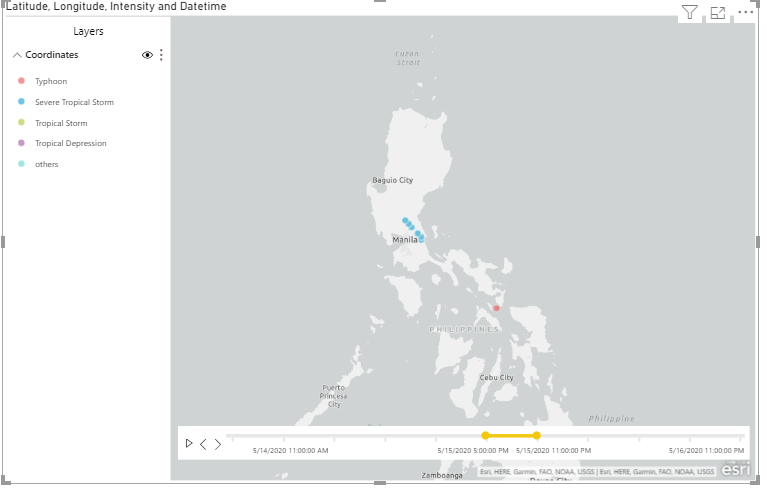

This screenshot's page, from the dashboard's own definition file:
{"tool":"powerbi","page":{"name":"Page 3","canvas":[1280,720],"ordinal":0},"visuals":[{"type":"esriVisual","fields":{"Time":["Pagasa.Datetime"],"Latitude":["Pagasa.Latitude"],"Longitude":["Pagasa.Longitude"],"Color":["Pagasa.Intensity"]},"box":[9.6,0,1270.4,720.4],"z":0}]}

Visuals, with their boxes in screenshot pixels (x1, y1, x2, y2):
esriVisual - Pagasa.Datetime x Pagasa.Latitude: 2/54/752/480
